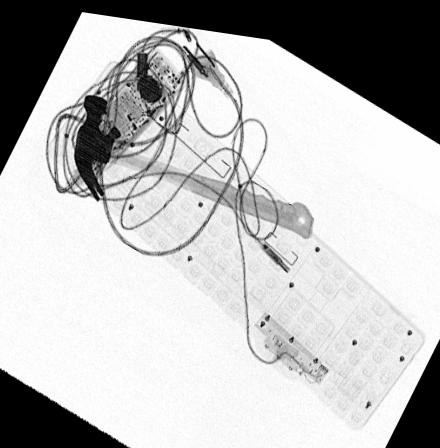Hammer: (73, 92, 314, 230)
